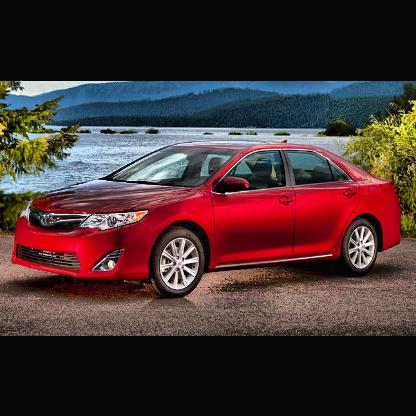Toyota Camry Sedan 2012: (11, 142, 405, 299)
